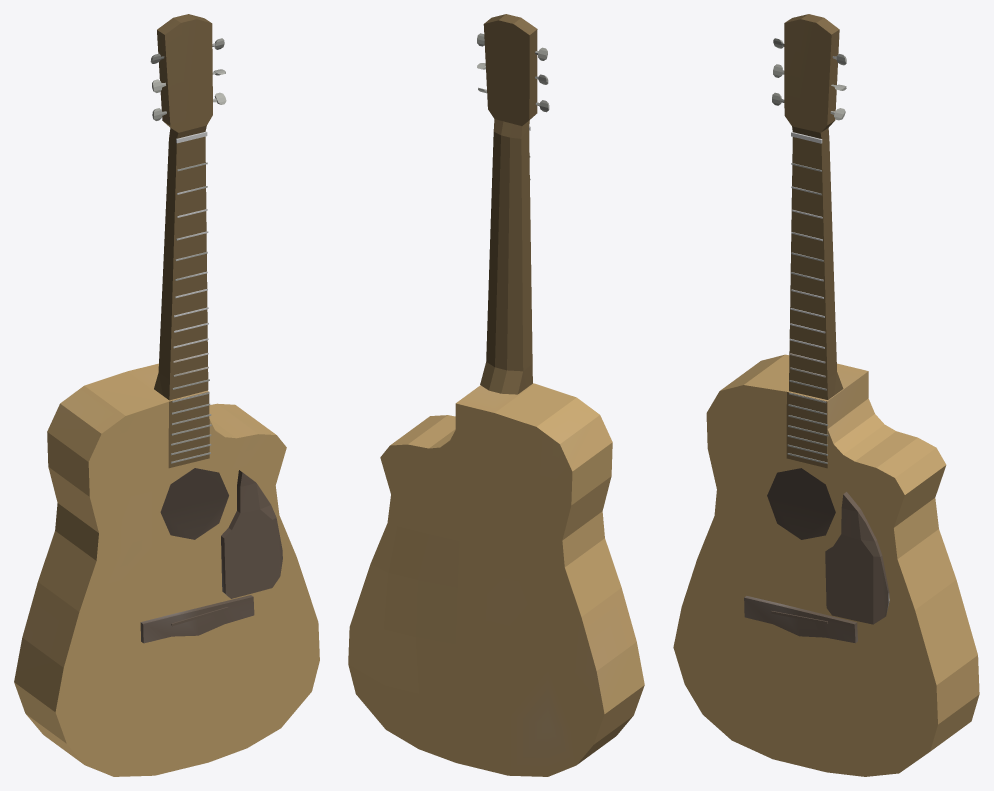
Rendered from violao.fbx.
3 views of the same model, side by side, from view 1: azimuth 30°, elevation 25°; view 2: azimuth 150°, elevation 25°; view 3: azimuth 330°, elevation 25° (orthographic). The views are drawn at different scales.
Parts seen in each view (by area): view 1: violao; view 2: violao; view 3: violao.
Part boxes in pixels (x1=…): violao: x1=14, y1=14, x2=319, y2=776; violao: x1=348, y1=14, x2=644, y2=776; violao: x1=673, y1=14, x2=979, y2=776.
Bounding box in the file's own units: 417 × 1123 × 139.
